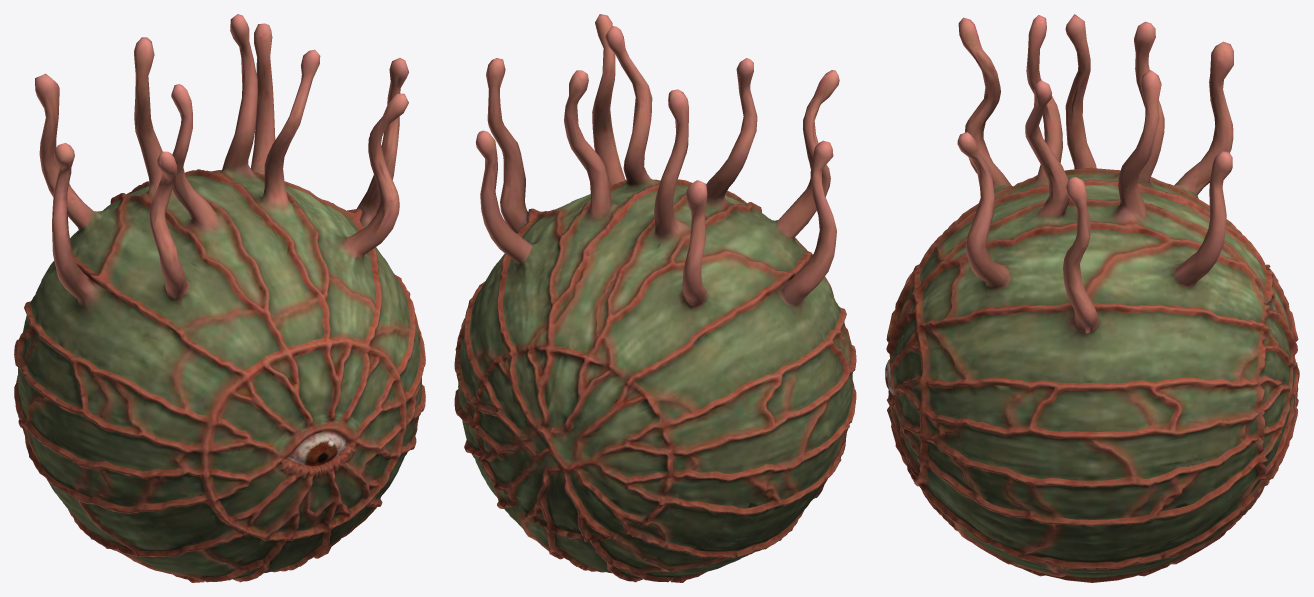
The model's file is MZ4250 - Gas Spore Fungus_2025.glb.
3 renders of one model, left to right at view 1: azimuth 30°, elevation 25°; view 2: azimuth 150°, elevation 25°; view 3: azimuth 270°, elevation 25°, orthographic. The views are drawn at different scales.
Visible parts, largest first — view 1: Sphere.001; view 2: Sphere.001; view 3: Sphere.001.
Boxes of the visible parts, bbox=[...] form: Sphere.001: bbox=[14, 14, 425, 582]; Sphere.001: bbox=[454, 14, 856, 582]; Sphere.001: bbox=[885, 14, 1299, 582].
Size of the model in its own units: 113 by 155 by 113.
Materials: 1 (1 with a texture image).
